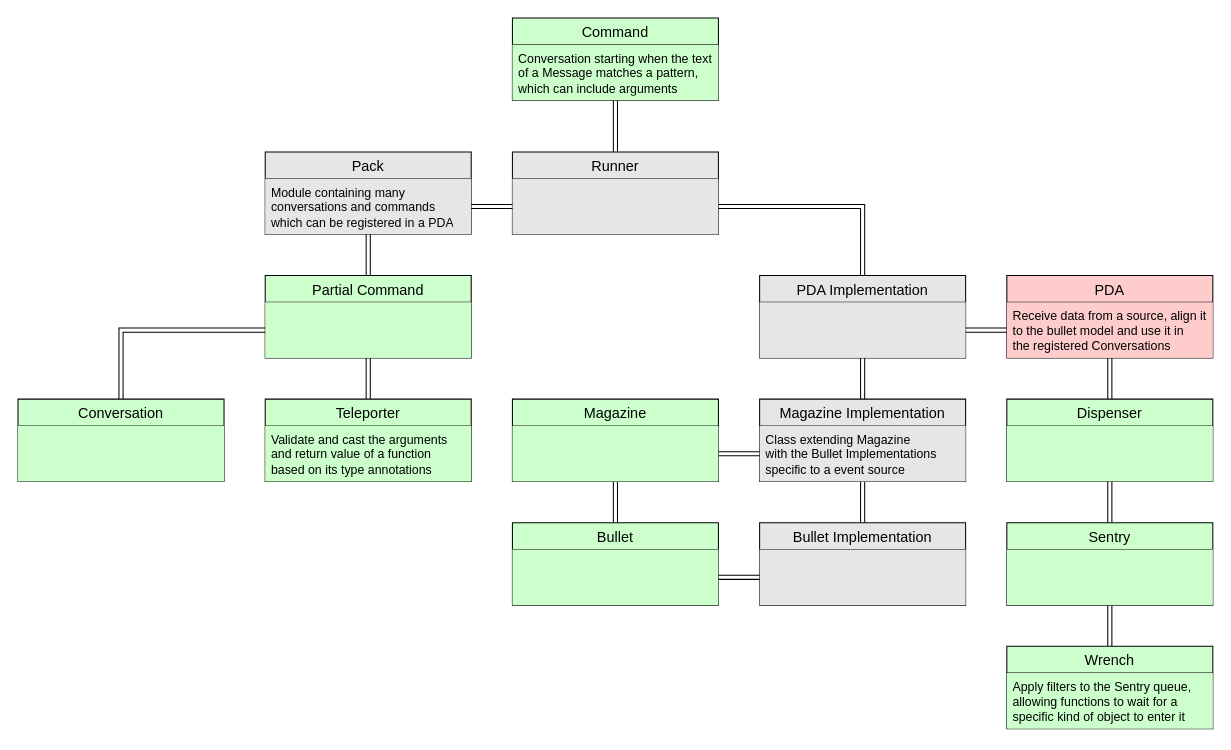
The diagram is 1231 pixels wide and 750 high, and some of its shapes have lost their labels. Each missing label, with the centre of its shape:
A coroutine function which accepts _sentry and **kwargs as keyword arguments: (x=121, y=453)
Class extending Bullets with methods specific to a event source: (x=862, y=577)
Command having an unknown pattern, waiting to be completed by a PDA: (x=368, y=329)
Define a universal model of chat events: (x=615, y=577)
Group of Bullet Implementations for a specific event source: (x=615, y=453)
Module importing conversations from packs into a PDA and then running the PDA: (x=615, y=206)
Provide an interface to conversation developers to await for new chat events: (x=1109, y=577)
Provides functions to instantiate new Sentries and to propagate events to them: (x=1109, y=453)
Python class extending PDA with methods specific to a event source: (x=862, y=329)
